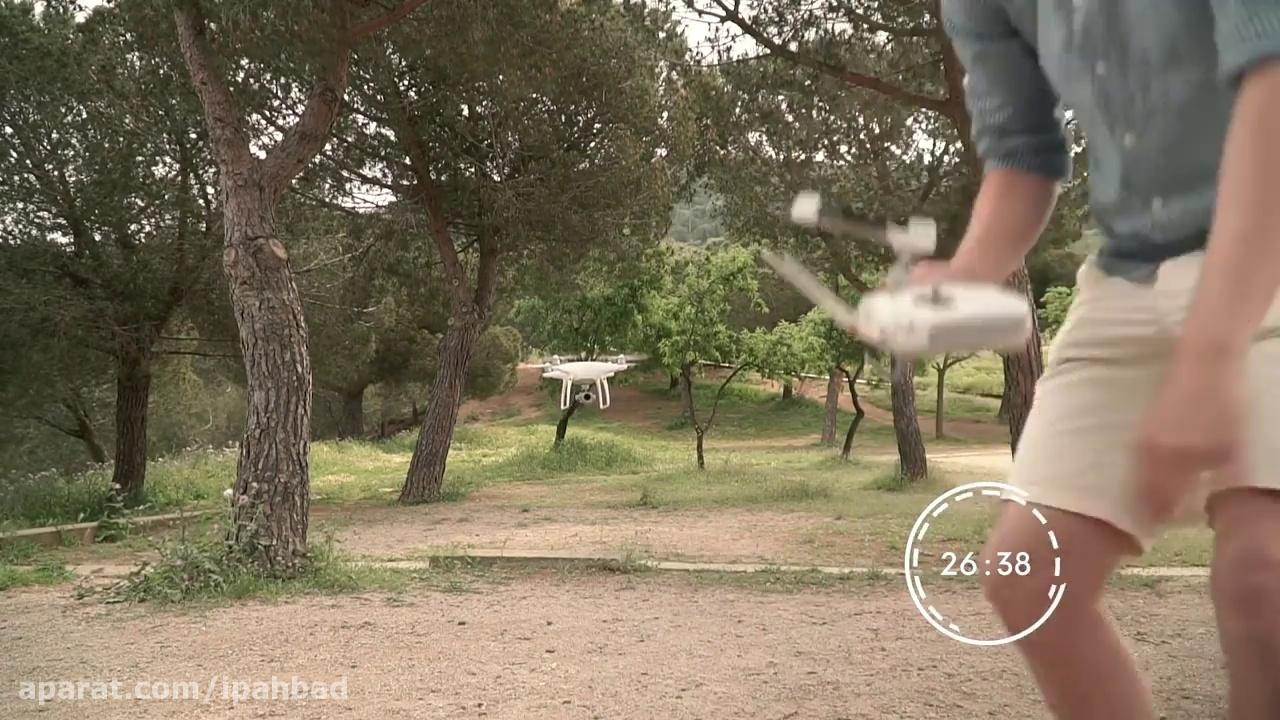drone: (526, 344, 653, 411)
